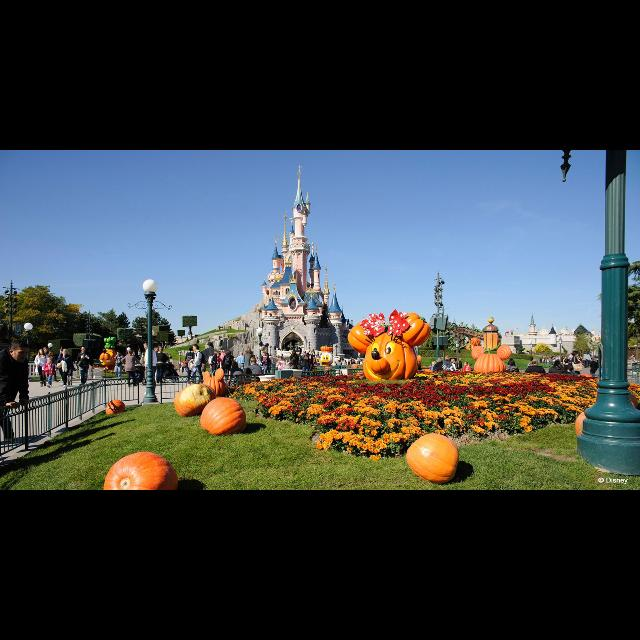head: (8, 339, 30, 363), (508, 358, 516, 366), (143, 342, 149, 350), (159, 346, 165, 354), (192, 343, 198, 351), (250, 358, 258, 364), (533, 358, 539, 366), (554, 361, 562, 367), (62, 349, 68, 355), (80, 346, 86, 352), (116, 350, 122, 356), (128, 349, 134, 355), (226, 350, 232, 356), (232, 363, 238, 369), (304, 353, 310, 359), (564, 358, 570, 364), (573, 351, 579, 357), (40, 349, 44, 355), (48, 357, 52, 363), (44, 347, 48, 353), (155, 346, 159, 352), (189, 346, 193, 352), (218, 352, 222, 358), (246, 348, 252, 352), (50, 352, 54, 356), (214, 350, 218, 354), (222, 350, 226, 354), (240, 352, 244, 356), (262, 351, 266, 355), (279, 357, 283, 361), (182, 362, 184, 364), (340, 358, 342, 360), (593, 358, 595, 360)
person: (0, 338, 32, 444), (142, 340, 158, 396), (240, 356, 264, 390), (55, 348, 75, 388), (76, 346, 96, 386), (121, 348, 141, 388), (523, 358, 547, 390), (188, 343, 206, 385), (34, 348, 50, 388), (154, 346, 170, 384), (570, 350, 586, 388), (548, 360, 568, 390), (502, 357, 520, 389), (224, 361, 243, 389), (184, 346, 196, 384), (43, 357, 57, 389), (221, 350, 235, 382), (243, 346, 255, 382), (48, 351, 60, 383), (114, 350, 126, 382), (40, 347, 50, 385), (207, 350, 219, 380), (260, 350, 272, 380), (300, 354, 312, 380), (152, 346, 160, 384), (219, 349, 229, 379), (564, 358, 574, 388), (235, 352, 245, 378), (276, 356, 286, 380), (589, 358, 599, 382), (214, 352, 223, 378), (335, 358, 343, 377), (180, 362, 186, 374)
